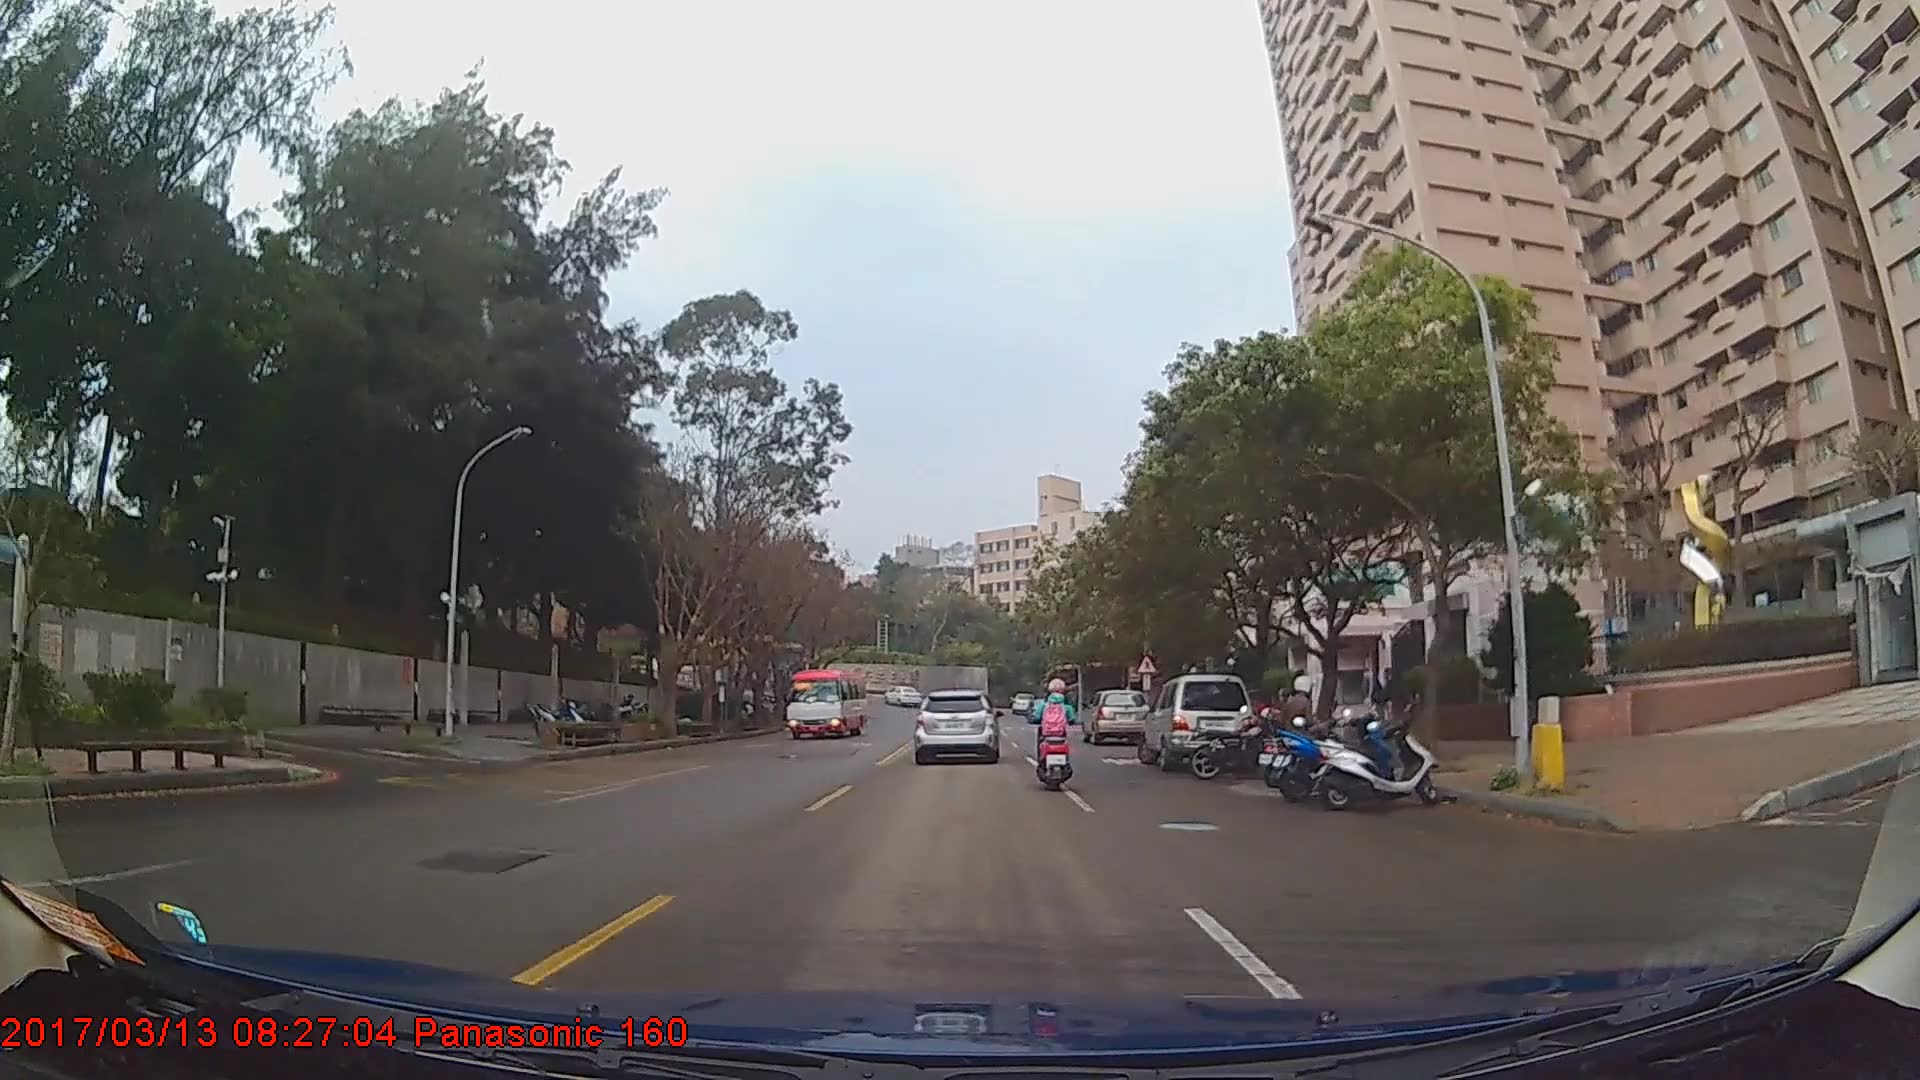rider: (1267, 670, 1330, 780), (1033, 671, 1085, 794)
vehicle: (1136, 673, 1253, 772), (912, 688, 998, 764), (784, 666, 867, 735), (1082, 688, 1148, 744), (879, 683, 924, 707)
